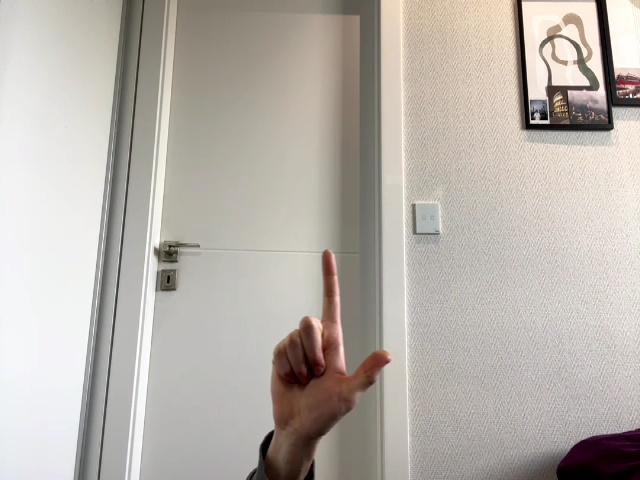L: (270, 250, 393, 454)
